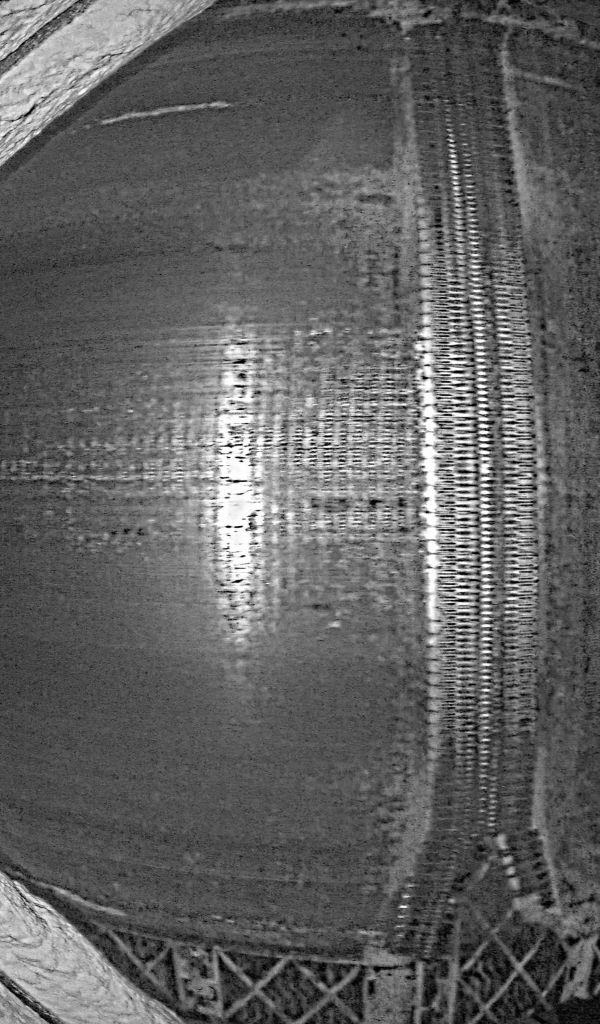damage: (396, 835, 554, 946)
splice: (382, 13, 556, 948)
